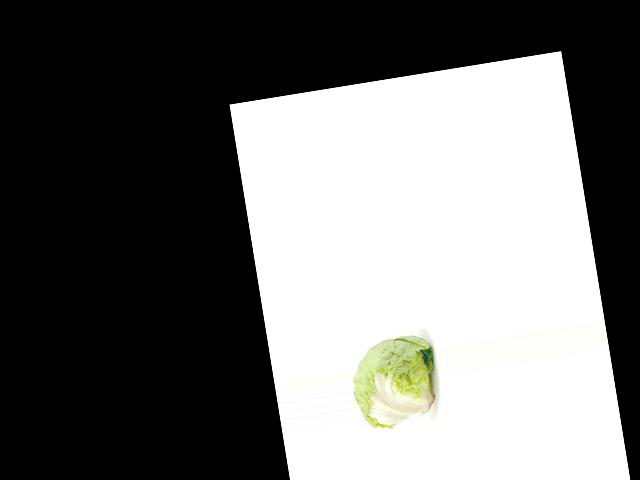lettuce: (347, 311, 461, 430)
